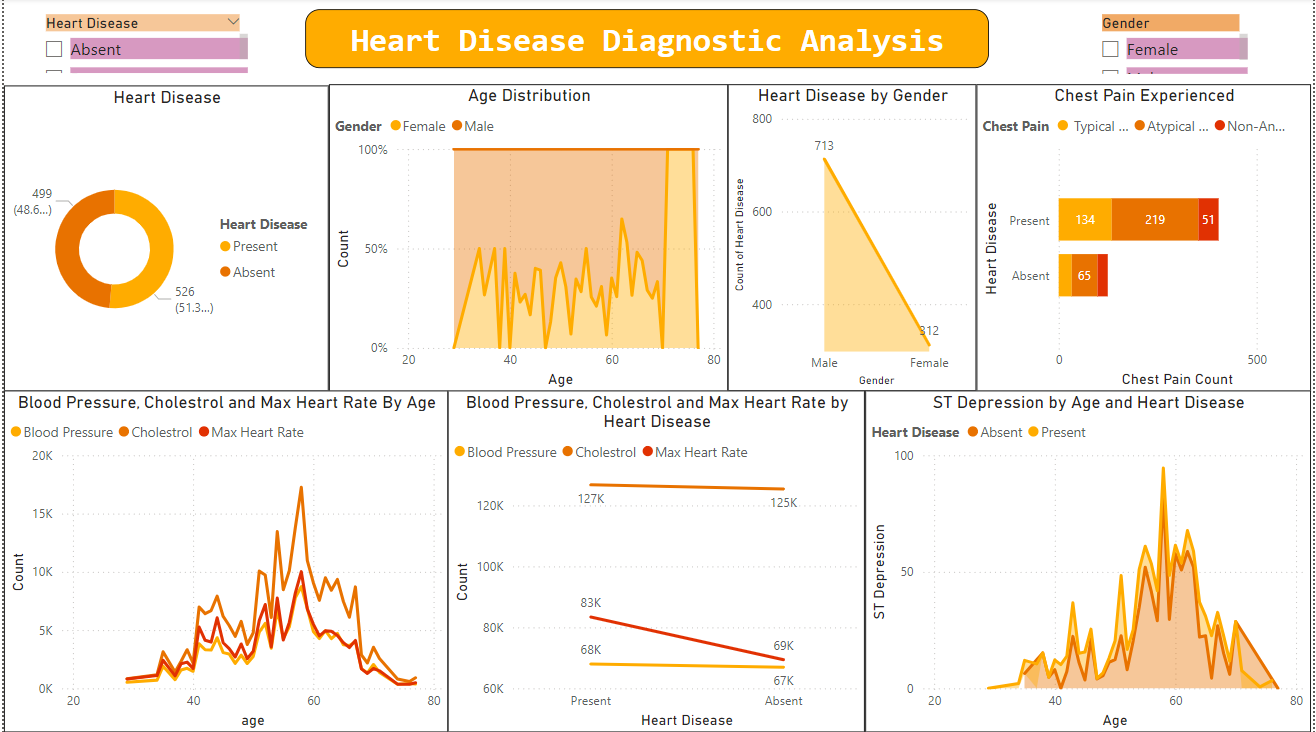

This screenshot's page, from the dashboard's own definition file:
{"tool":"powerbi","page":{"name":"Dashboard","canvas":[1280,720],"ordinal":0},"visuals":[{"type":"areaChart","title":"Heart Disease by Gender","fields":{"Category":["heart_disease_dataset.Gender"],"Y":["CountNonNull(heart_disease_dataset.Heart Disease)"]},"box":[708.1,84.8,243.6,299.7],"z":0},{"type":"donutChart","title":"Heart Disease","fields":{"Y":["CountNonNull(heart_disease_dataset.Heart Disease)"],"Category":["heart_disease_dataset.Heart Disease"]},"box":[0,85.6,317.9,299.6],"z":1000},{"type":"hundredPercentStackedAreaChart","title":"Age Distribution","fields":{"Category":["heart_disease_dataset.age"],"Y":["Sum(heart_disease_dataset.age)"],"Series":["heart_disease_dataset.Gender"]},"box":[317.6,84.8,390.4,300.9],"z":2000},{"type":"barChart","title":"Chest Pain Experienced","fields":{"Category":["heart_disease_dataset.Heart Disease"],"Y":["CountNonNull(heart_disease_dataset.chest pain)"],"Series":["heart_disease_dataset.chest pain"]},"box":[951.6,84.8,327.2,300.9],"z":3000},{"type":"lineChart","title":"Blood Pressure, Cholestrol and Max Heart Rate By Age","fields":{"Y":["Sum(heart_disease_dataset.Blood Pressure)","Sum(heart_disease_dataset.chol)","Sum(heart_disease_dataset.thalach)"],"Category":["heart_disease_dataset.age"]},"box":[0,384.5,434.6,334.3],"z":4000},{"type":"lineChart","title":"Blood Pressure, Cholestrol and Max Heart Rate by Heart Disease","fields":{"Category":["heart_disease_dataset.Heart Disease"],"Y":["Sum(heart_disease_dataset.Blood Pressure)","Sum(heart_disease_dataset.Cholestrol)","Sum(heart_disease_dataset.Max Heart Rate)"]},"box":[434.6,384.5,408.4,334.3],"z":5000},{"type":"stackedAreaChart","title":"ST Depression by Age and Heart Disease","fields":{"Category":["heart_disease_dataset.age"],"Series":["heart_disease_dataset.Heart Disease"],"Y":["Sum(heart_disease_dataset.oldpeak)"]},"box":[843,384.5,435.8,334.3],"z":6000},{"type":"slicer","fields":{"Values":["heart_disease_dataset.Gender"]},"box":[1061.5,10.7,160,68.1],"z":7000},{"type":"slicer","fields":{"Values":["heart_disease_dataset.Heart Disease"]},"box":[28.1,11,215.2,67.3],"z":8000},{"type":"textbox","box":[294.9,10.7,668.7,57.3],"z":9000}]}

Visuals, with their boxes in screenshot pixels (x1, y1, x2, y2), scaled from the page's 1280x720 canvas onto the 1316x732 screenshot:
"Heart Disease by Gender" areaChart: bbox=(728, 86, 978, 391)
"Heart Disease" donutChart: bbox=(0, 87, 327, 392)
"Age Distribution" hundredPercentStackedAreaChart: bbox=(327, 86, 728, 392)
"Chest Pain Experienced" barChart: bbox=(978, 86, 1315, 392)
"Blood Pressure, Cholestrol and Max Heart Rate By Age" lineChart: bbox=(0, 391, 447, 731)
"Blood Pressure, Cholestrol and Max Heart Rate by Heart Disease" lineChart: bbox=(447, 391, 867, 731)
"ST Depression by Age and Heart Disease" stackedAreaChart: bbox=(867, 391, 1315, 731)
slicer - heart_disease_dataset.Gender: bbox=(1091, 11, 1256, 80)
slicer - heart_disease_dataset.Heart Disease: bbox=(29, 11, 250, 80)
textbox: bbox=(303, 11, 991, 69)
